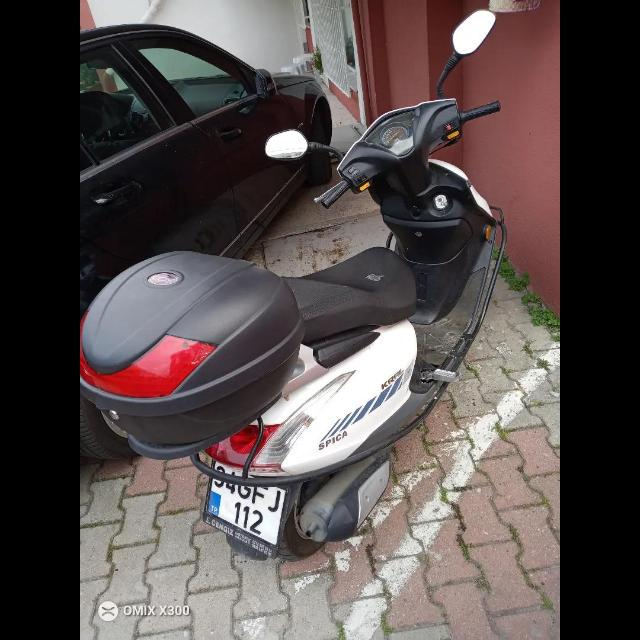Plaka: (202, 456, 288, 548)
